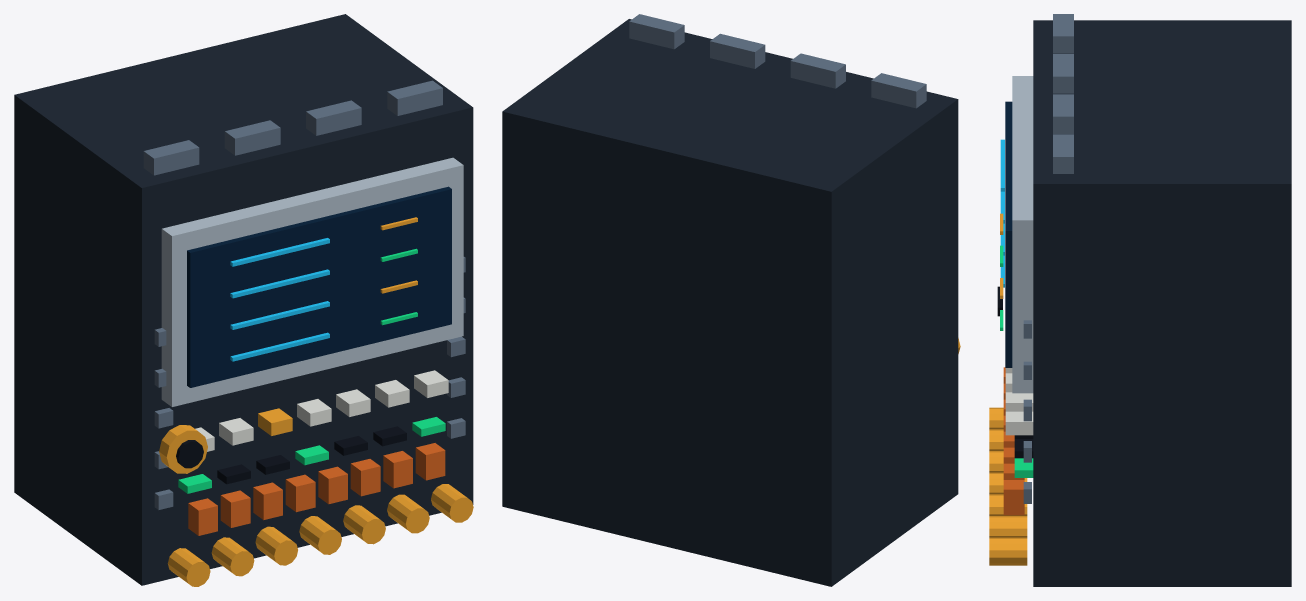
File: 85_L87_StationSafetyIsolationRelay.fbx
3 views of the same model, side by side, from view 1: azimuth 30°, elevation 25°; view 2: azimuth 150°, elevation 25°; view 3: azimuth 270°, elevation 25° (orthographic).
Visible parts, largest first — view 1: L87_StationSafetyIsolationRelay, L87_StationSafetyIsolationRelay_Part_0010, L87_StationSafetyIsolationRelay_Part_0011; view 2: L87_StationSafetyIsolationRelay; view 3: L87_StationSafetyIsolationRelay.
Boxes of the visible parts, x1,y1,x2,y2 form: L87_StationSafetyIsolationRelay: [14, 14, 473, 586]; L87_StationSafetyIsolationRelay_Part_0010: [159, 425, 207, 473]; L87_StationSafetyIsolationRelay_Part_0011: [176, 440, 203, 468]; L87_StationSafetyIsolationRelay: [502, 14, 958, 586]; L87_StationSafetyIsolationRelay: [989, 14, 1291, 586].
Size of the model in its own units: 104 by 124 by 81.09.
